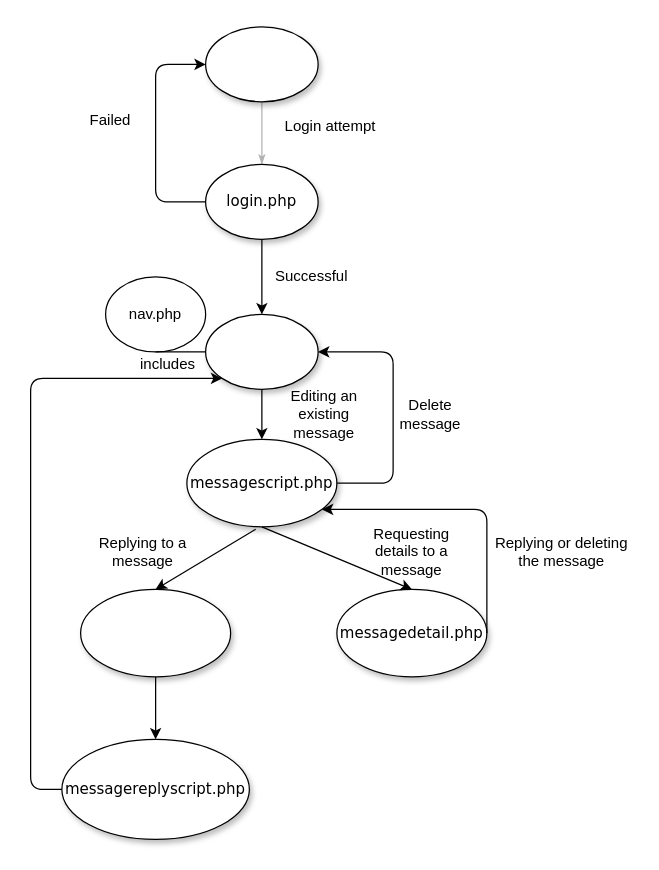
This 659x870 diagram has some shape labels left out. Each missing label, with the centre of its shape:
index.php: (262,66)
message.php: (262,353)
messagereply.php: (156,634)
